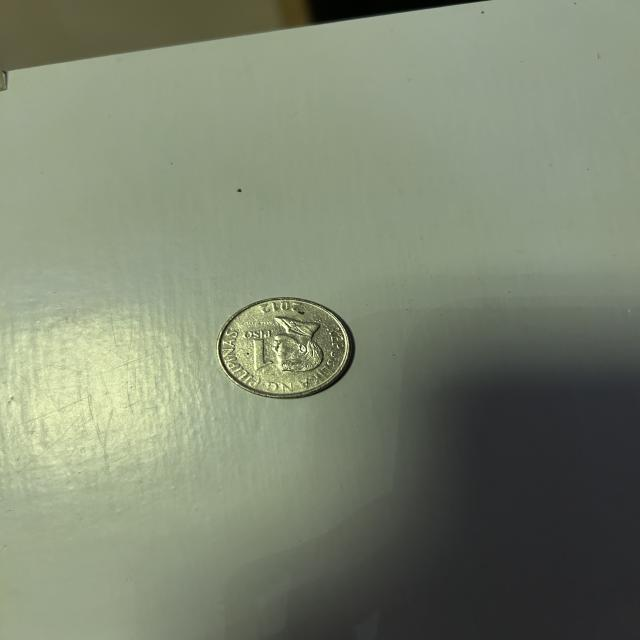1_Old_Front: (243, 330, 280, 370)
